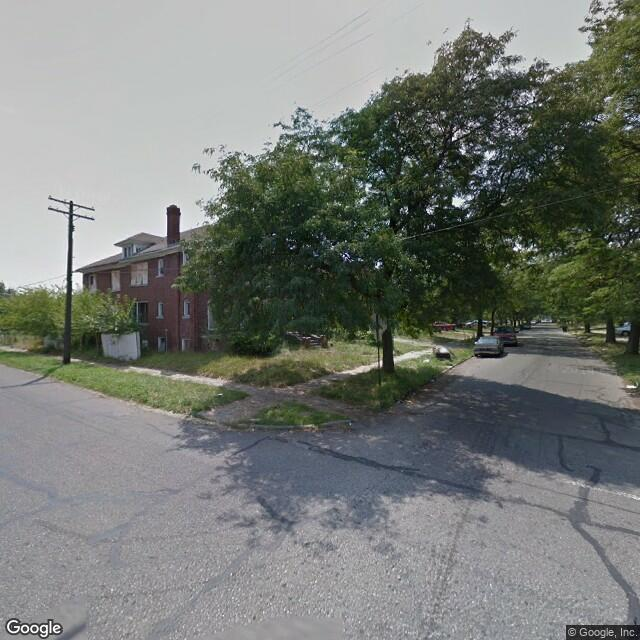litter: (627, 380, 635, 394), (420, 356, 431, 366), (401, 398, 415, 403), (213, 391, 224, 397), (345, 421, 353, 427), (249, 428, 258, 433)
